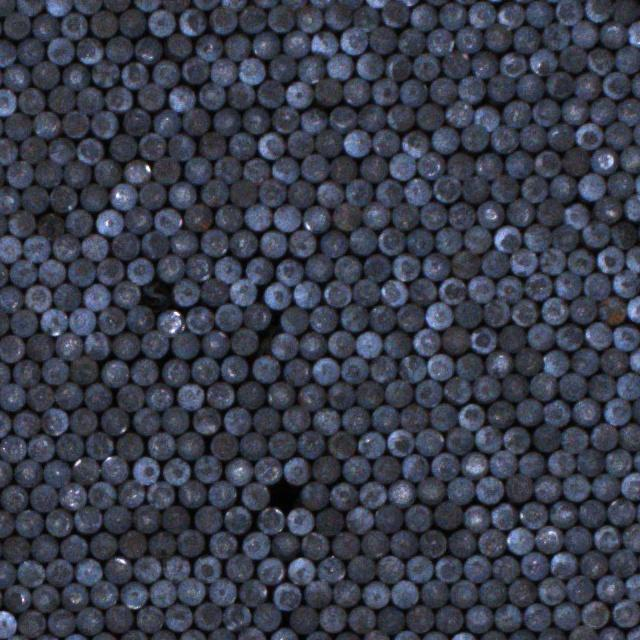tool: (596, 295, 625, 325), (288, 605, 317, 634), (177, 8, 206, 36), (208, 6, 237, 34), (438, 1, 466, 30), (561, 146, 589, 175), (332, 201, 360, 230), (592, 195, 621, 223), (494, 275, 522, 304), (14, 509, 43, 537), (345, 505, 373, 534), (534, 524, 562, 553), (578, 550, 606, 579), (434, 604, 463, 632), (32, 12, 59, 42), (450, 251, 480, 278), (242, 202, 270, 230), (522, 223, 550, 251), (140, 230, 168, 258), (67, 258, 95, 286), (304, 253, 332, 281), (140, 330, 168, 358), (270, 332, 298, 360), (496, 324, 524, 352), (526, 322, 554, 350), (584, 321, 612, 349), (12, 359, 40, 387), (599, 348, 627, 376), (355, 380, 383, 408), (558, 372, 586, 400), (571, 398, 599, 426), (296, 430, 324, 458), (327, 431, 355, 459), (414, 428, 442, 456), (42, 460, 70, 488), (162, 457, 190, 485), (224, 457, 252, 485), (311, 455, 339, 483), (342, 455, 370, 483), (430, 452, 458, 480), (576, 448, 604, 476), (58, 482, 86, 510), (87, 481, 115, 509), (44, 508, 72, 536), (416, 476, 444, 504), (532, 474, 560, 502), (132, 504, 160, 532), (161, 504, 189, 532), (477, 528, 505, 556), (563, 526, 591, 554), (16, 559, 44, 587), (44, 558, 72, 586), (193, 555, 221, 583), (462, 554, 490, 582), (478, 578, 506, 606), (508, 578, 536, 606), (595, 574, 623, 602), (580, 600, 608, 628), (405, 604, 433, 632), (318, 604, 346, 632), (238, 4, 265, 33), (468, 0, 495, 29), (152, 108, 179, 137), (258, 178, 285, 207), (183, 204, 212, 231), (84, 382, 111, 411), (145, 382, 172, 411), (223, 406, 250, 435), (85, 430, 112, 459), (271, 532, 298, 561), (390, 529, 417, 558), (609, 548, 636, 577), (75, 606, 102, 635), (89, 10, 116, 38), (117, 9, 145, 36), (524, 0, 552, 27), (31, 61, 58, 89), (90, 59, 118, 86), (119, 62, 147, 89), (296, 56, 324, 83), (355, 52, 382, 80), (528, 48, 556, 75), (284, 80, 311, 108), (357, 105, 385, 132), (5, 160, 32, 188), (62, 160, 90, 187), (93, 159, 121, 186), (152, 156, 179, 184), (20, 186, 48, 213), (109, 182, 136, 210), (199, 178, 226, 206), (403, 177, 430, 205), (432, 175, 460, 202), (490, 175, 518, 202), (36, 213, 64, 240), (22, 234, 49, 262), (349, 227, 377, 254), (377, 227, 405, 254), (493, 225, 520, 253), (509, 248, 536, 276), (481, 250, 508, 278), (422, 253, 450, 280), (82, 283, 110, 310), (112, 280, 139, 308), (185, 253, 212, 281), (172, 278, 200, 305), (263, 282, 291, 309), (380, 279, 407, 307), (467, 275, 494, 303), (186, 306, 213, 334), (280, 307, 308, 334), (230, 327, 257, 355), (425, 302, 452, 330), (568, 296, 595, 324), (26, 383, 53, 411), (54, 382, 82, 409), (398, 354, 425, 382), (570, 348, 598, 375), (444, 376, 471, 404), (472, 374, 499, 402), (500, 374, 527, 402), (529, 372, 556, 400), (282, 405, 310, 432), (400, 404, 427, 432), (603, 398, 631, 425), (115, 432, 142, 460), (147, 431, 174, 459), (71, 456, 98, 484), (253, 456, 280, 484), (282, 456, 309, 484), (489, 450, 516, 478), (604, 448, 631, 476), (103, 504, 130, 532), (208, 480, 235, 508), (240, 482, 268, 509), (300, 481, 327, 509), (330, 482, 358, 509), (358, 481, 386, 508), (591, 474, 619, 501), (223, 506, 250, 534), (315, 507, 342, 535), (375, 504, 402, 532), (176, 528, 203, 556), (434, 501, 461, 529), (549, 500, 576, 528), (606, 498, 634, 525), (361, 529, 388, 557), (287, 556, 314, 584), (405, 554, 432, 582), (492, 556, 519, 584), (31, 584, 58, 612), (176, 577, 204, 604), (273, 582, 300, 610), (222, 603, 249, 631), (253, 602, 280, 630), (390, 580, 418, 607), (449, 579, 476, 607), (537, 576, 564, 604), (612, 599, 639, 627), (552, 602, 579, 630), (523, 603, 550, 631), (494, 603, 521, 631), (152, 59, 178, 88), (613, 269, 639, 298), (442, 326, 468, 355), (117, 383, 143, 412), (100, 455, 126, 484), (388, 479, 414, 508), (505, 473, 531, 502), (324, 2, 351, 29), (381, 0, 408, 27), (16, 38, 43, 65), (369, 26, 396, 53), (484, 23, 511, 50), (602, 71, 629, 98), (388, 153, 415, 180), (590, 147, 617, 174), (577, 173, 604, 200), (215, 204, 242, 231), (391, 202, 418, 229), (419, 202, 446, 229), (536, 199, 563, 226), (52, 234, 79, 261), (170, 229, 197, 256), (434, 227, 461, 254), (463, 225, 490, 252), (362, 254, 389, 281), (333, 255, 360, 282), (53, 283, 80, 310), (96, 257, 123, 284), (228, 278, 255, 305), (352, 279, 379, 306), (68, 307, 95, 334), (156, 309, 183, 336), (327, 330, 354, 357), (161, 359, 188, 386), (176, 383, 203, 410), (205, 381, 232, 408), (340, 356, 367, 383), (192, 406, 219, 433), (341, 406, 368, 433), (175, 431, 202, 458), (357, 430, 384, 457), (474, 425, 501, 452), (560, 426, 587, 453), (590, 423, 617, 450), (14, 459, 41, 486), (30, 484, 57, 511), (146, 481, 173, 508), (178, 480, 205, 507), (446, 477, 473, 504), (475, 476, 502, 503), (562, 474, 589, 501), (256, 506, 283, 533), (29, 533, 56, 560), (209, 531, 236, 558), (506, 526, 533, 553), (74, 558, 101, 585), (133, 556, 160, 583), (162, 555, 189, 582), (347, 555, 374, 582), (434, 555, 461, 582), (520, 552, 547, 579), (105, 605, 132, 632), (361, 581, 388, 608), (420, 579, 447, 606), (148, 9, 174, 37), (267, 4, 293, 32), (296, 5, 322, 33), (497, 1, 523, 29), (46, 36, 72, 64), (282, 29, 308, 57), (570, 20, 596, 48), (61, 64, 89, 90), (210, 57, 236, 85), (268, 54, 294, 82), (559, 44, 585, 72), (516, 74, 542, 102), (574, 72, 600, 100), (62, 110, 88, 138), (91, 110, 117, 138), (213, 108, 239, 136), (386, 103, 414, 129), (589, 97, 615, 125), (110, 134, 136, 162), (227, 132, 255, 158), (256, 132, 284, 158), (343, 128, 369, 156), (184, 156, 210, 184), (330, 156, 356, 184), (460, 176, 488, 202), (272, 205, 300, 231), (362, 201, 388, 229), (581, 221, 609, 247), (110, 233, 138, 259), (10, 258, 36, 286), (24, 284, 50, 312), (276, 258, 302, 286), (292, 281, 320, 307), (438, 276, 464, 304), (538, 248, 566, 274), (39, 308, 67, 334), (54, 333, 82, 359), (309, 306, 337, 332), (170, 332, 198, 358), (299, 331, 325, 359), (355, 330, 381, 358), (368, 304, 394, 332), (454, 299, 480, 327), (511, 298, 537, 326), (541, 297, 567, 325), (412, 328, 440, 354), (554, 324, 582, 350), (101, 360, 127, 388), (515, 347, 541, 375), (267, 381, 293, 409), (327, 381, 353, 409), (384, 379, 410, 407), (414, 379, 440, 407), (588, 374, 616, 400), (41, 407, 67, 435), (27, 433, 53, 461), (56, 432, 82, 460), (252, 406, 278, 434), (487, 400, 513, 428), (238, 432, 266, 458), (533, 423, 559, 451), (132, 456, 158, 484), (194, 454, 220, 482), (1, 484, 27, 512), (117, 480, 143, 508), (194, 505, 220, 533), (405, 504, 431, 532), (60, 533, 86, 561), (578, 499, 604, 527), (418, 529, 444, 557), (592, 524, 618, 552), (316, 556, 344, 582), (550, 551, 576, 579), (3, 584, 29, 612), (47, 608, 73, 636), (61, 583, 87, 611), (90, 580, 116, 608), (120, 581, 146, 609), (208, 577, 234, 605), (566, 574, 592, 602), (466, 604, 492, 632), (375, 178, 400, 207), (341, 303, 366, 332), (3, 12, 30, 38), (60, 12, 86, 39), (310, 31, 336, 58), (339, 27, 366, 53), (397, 28, 423, 55), (426, 29, 453, 55), (455, 26, 481, 53), (512, 26, 538, 53), (1, 64, 28, 90), (238, 57, 264, 84), (326, 52, 352, 79), (412, 53, 438, 80), (499, 52, 526, 78), (585, 48, 612, 74), (614, 46, 640, 73), (48, 86, 74, 113), (76, 87, 102, 114), (137, 83, 163, 110), (330, 106, 356, 133), (503, 100, 530, 126), (532, 99, 558, 126), (461, 124, 488, 150), (575, 122, 601, 149), (124, 159, 150, 186), (271, 156, 298, 182), (301, 154, 327, 181), (476, 153, 502, 180), (506, 151, 532, 178), (79, 184, 106, 210), (138, 182, 164, 209), (230, 180, 257, 206), (287, 180, 313, 207), (316, 181, 343, 207), (344, 178, 370, 205), (520, 174, 546, 201), (549, 175, 575, 202), (606, 171, 632, 198), (95, 209, 122, 235), (124, 206, 151, 232), (153, 208, 180, 234), (302, 205, 328, 232), (448, 202, 474, 229), (476, 200, 502, 227), (563, 202, 589, 229), (551, 223, 577, 250), (81, 233, 107, 260), (229, 230, 255, 257), (319, 231, 346, 257), (392, 254, 418, 281), (245, 257, 272, 283), (200, 278, 227, 304), (323, 280, 350, 306), (408, 278, 435, 304), (597, 246, 623, 273), (554, 272, 580, 299), (583, 273, 609, 300), (10, 309, 36, 336), (97, 307, 124, 333), (84, 332, 110, 359), (215, 303, 241, 330), (243, 303, 270, 329), (202, 329, 228, 356), (396, 304, 422, 331), (70, 356, 96, 383), (191, 357, 217, 384), (252, 355, 278, 382), (283, 358, 310, 384), (312, 357, 338, 384), (369, 355, 395, 382), (426, 353, 452, 380), (456, 353, 482, 380), (485, 350, 511, 377), (298, 383, 324, 410), (101, 407, 127, 434), (372, 405, 398, 432), (430, 403, 456, 430), (515, 399, 542, 425), (542, 400, 569, 426), (210, 432, 236, 459), (268, 431, 294, 458), (445, 427, 472, 453), (372, 456, 399, 482), (401, 454, 427, 481), (461, 452, 487, 479), (73, 506, 100, 532), (287, 507, 313, 534), (118, 530, 144, 557), (242, 532, 269, 558), (302, 532, 328, 559), (332, 531, 358, 558), (519, 502, 546, 528), (104, 556, 130, 583), (226, 554, 252, 581), (257, 557, 283, 584), (376, 556, 403, 582), (149, 579, 175, 606), (136, 605, 162, 632), (164, 604, 191, 630), (194, 602, 220, 629), (304, 580, 330, 607), (332, 579, 358, 606), (352, 4, 377, 32), (555, 0, 583, 25), (343, 77, 368, 105), (474, 104, 499, 132), (35, 159, 60, 187), (507, 198, 532, 226), (260, 230, 285, 258), (483, 298, 508, 326), (0, 434, 25, 462), (387, 428, 412, 456), (546, 451, 574, 476), (75, 36, 101, 62), (134, 38, 160, 64), (195, 35, 221, 61), (252, 32, 278, 58), (542, 23, 568, 49), (600, 22, 626, 48), (384, 53, 410, 79), (442, 51, 468, 77), (314, 78, 340, 104), (400, 80, 426, 106), (487, 75, 513, 101), (242, 107, 268, 133), (446, 100, 472, 126), (562, 98, 588, 124), (48, 137, 74, 163), (76, 138, 102, 164), (198, 132, 224, 158), (214, 157, 240, 183), (360, 155, 386, 181), (50, 185, 76, 211), (168, 182, 194, 208), (8, 210, 34, 236), (288, 230, 314, 256), (126, 258, 152, 284), (157, 255, 183, 281), (214, 257, 240, 283), (524, 274, 550, 300), (26, 333, 52, 359), (613, 324, 639, 350), (131, 359, 157, 385), (542, 350, 568, 376), (237, 381, 263, 407), (70, 408, 96, 434), (133, 408, 159, 434), (161, 407, 187, 433), (518, 451, 544, 477), (2, 536, 28, 562), (90, 532, 116, 558), (148, 532, 174, 558), (18, 610, 44, 636), (240, 579, 266, 605), (348, 606, 374, 632), (106, 35, 131, 62), (168, 85, 193, 112), (428, 78, 455, 103), (4, 112, 29, 139), (418, 152, 443, 179), (447, 153, 472, 180), (66, 209, 91, 236), (201, 229, 226, 256), (42, 357, 67, 384), (221, 355, 246, 382), (458, 403, 483, 430), (502, 427, 529, 452), (463, 505, 488, 532), (491, 502, 516, 529), (449, 529, 474, 556), (377, 606, 402, 633), (0, 382, 24, 410), (411, 4, 436, 30), (166, 34, 191, 60), (181, 57, 206, 83), (18, 88, 43, 114), (458, 76, 483, 102), (546, 72, 571, 98), (124, 110, 149, 136), (271, 107, 297, 132), (417, 104, 443, 129), (372, 129, 398, 154), (534, 151, 560, 176), (610, 222, 635, 248), (407, 230, 432, 256), (39, 259, 64, 285), (567, 249, 592, 275), (128, 306, 153, 332), (383, 332, 409, 357), (470, 327, 496, 352), (313, 408, 338, 434), (104, 86, 131, 110), (258, 80, 282, 107), (34, 111, 58, 138), (112, 334, 139, 358), (616, 372, 640, 399), (13, 412, 40, 436), (471, 52, 496, 77), (372, 78, 397, 103), (168, 134, 193, 159), (432, 127, 457, 152), (605, 121, 630, 146), (243, 159, 268, 184), (228, 84, 254, 108), (184, 109, 208, 135), (21, 136, 45, 162), (288, 130, 312, 156), (316, 130, 340, 156), (402, 130, 426, 156), (520, 124, 544, 150), (546, 124, 572, 148), (617, 98, 640, 125), (584, 0, 612, 22), (224, 35, 249, 59), (199, 84, 223, 109), (300, 110, 325, 134), (139, 134, 164, 158), (492, 126, 516, 151), (612, 0, 638, 23), (0, 334, 23, 360), (0, 286, 22, 312), (618, 423, 640, 449), (620, 472, 640, 500), (619, 146, 640, 172), (0, 235, 20, 262), (0, 186, 19, 213), (622, 524, 640, 552), (44, 0, 72, 16), (624, 192, 640, 220), (624, 573, 640, 600), (0, 139, 17, 164), (568, 625, 596, 640), (16, 0, 42, 16), (0, 610, 15, 637), (0, 560, 14, 588), (0, 40, 15, 66), (625, 246, 640, 272), (0, 88, 14, 115), (626, 295, 640, 322), (597, 626, 624, 640), (74, 0, 100, 14), (627, 20, 640, 48), (207, 627, 235, 640), (238, 626, 264, 640), (0, 509, 13, 536), (538, 627, 565, 640), (162, 0, 188, 12), (270, 628, 296, 640), (0, 460, 11, 488), (134, 0, 160, 11), (102, 0, 128, 10), (219, 0, 245, 10)
tool_b: (137, 277, 174, 308)
void: (266, 483, 300, 508)
